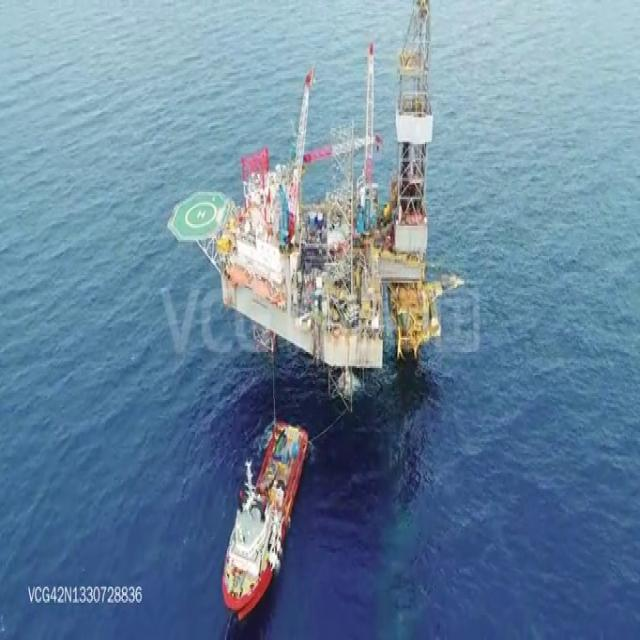cargoship: (220, 415, 305, 615)
